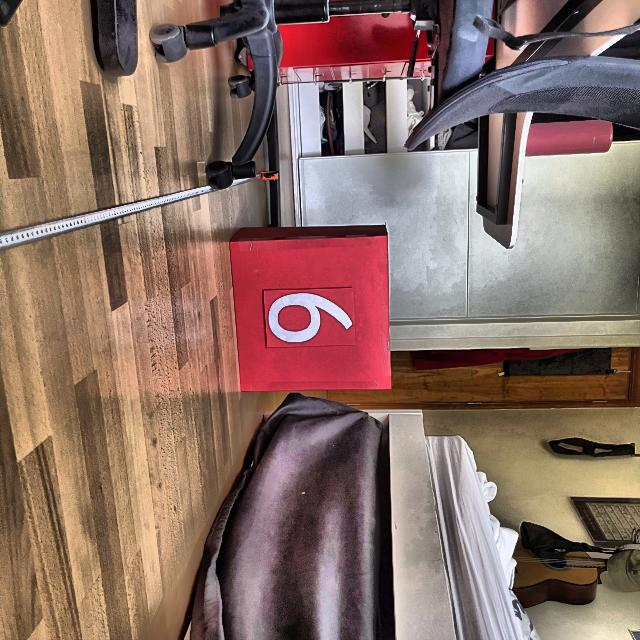red box: (226, 224, 395, 392)
six: (267, 292, 355, 345)
